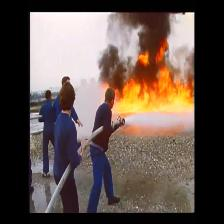fire: (99, 76, 199, 116), (133, 41, 178, 68)
smoke: (111, 12, 179, 35)
